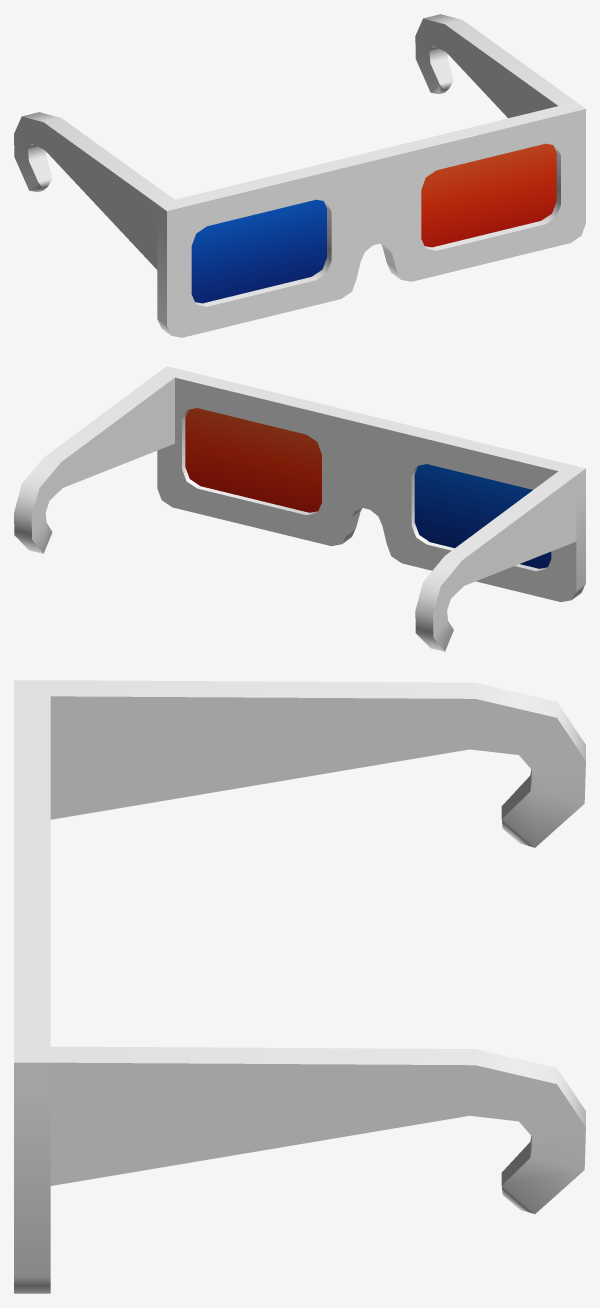
File: Capsule_Head_Prop_3D_Glass_01.fbx
3 views of the same model, one above another, from view 1: azimuth 30°, elevation 25°; view 2: azimuth 150°, elevation 25°; view 3: azimuth 270°, elevation 25° (orthographic). The views are drawn at different scales.
Parts seen in each view (by area): view 1: Capsule_Head_Prop_3D_Glass_01; view 2: Capsule_Head_Prop_3D_Glass_01; view 3: Capsule_Head_Prop_3D_Glass_01.
Part boxes in pixels (left/top/right/bottom): Capsule_Head_Prop_3D_Glass_01: left=14, top=14, right=585, bottom=337; Capsule_Head_Prop_3D_Glass_01: left=14, top=366, right=585, bottom=651; Capsule_Head_Prop_3D_Glass_01: left=14, top=680, right=585, bottom=1293.
Size of the model in its own units: 109 by 32.49 by 69.05.
